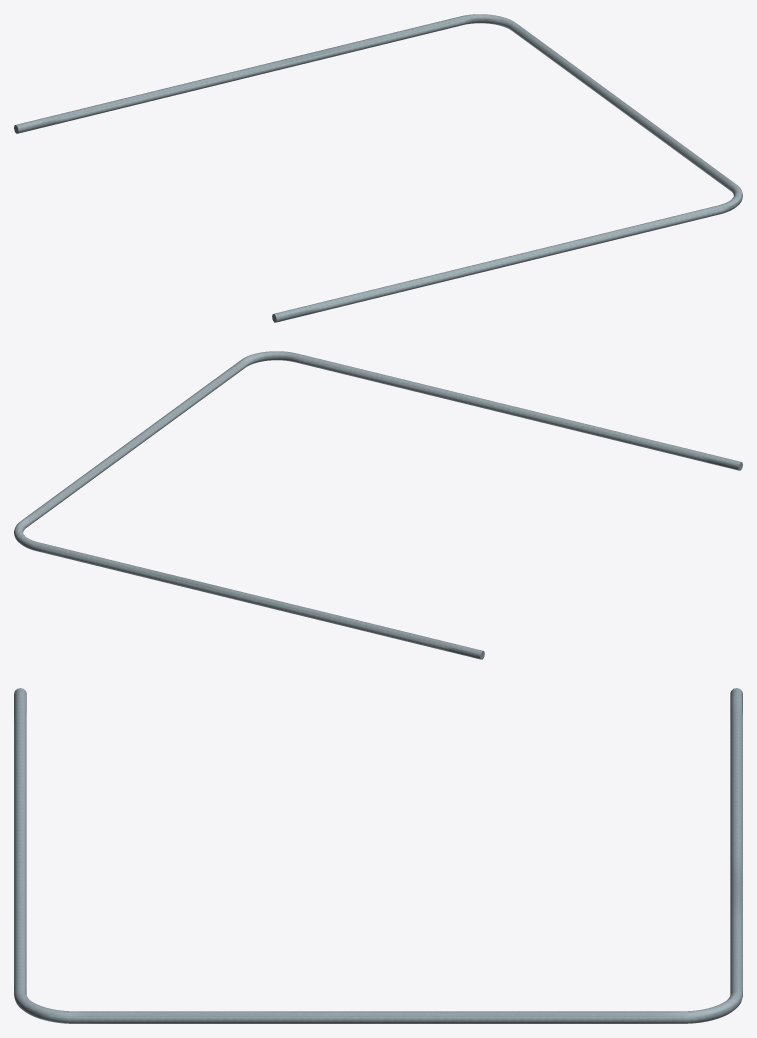
File: 24-rolled-tin-rim-143.3-2.fbx
The picture shows the model from 3 angles, top to bottom: view 1: azimuth 30°, elevation 25°; view 2: azimuth 150°, elevation 25°; view 3: azimuth 270°, elevation 25°; orthographic projection. The views are drawn at different scales.
Parts seen in each view (by area): view 1: rolled-tin-rim-143.3-2; view 2: rolled-tin-rim-143.3-2; view 3: rolled-tin-rim-143.3-2.
Part boxes in pixels (box(x1,y1,x2,y2)): rolled-tin-rim-143.3-2: box(14, 14, 742, 322); rolled-tin-rim-143.3-2: box(14, 351, 742, 659); rolled-tin-rim-143.3-2: box(14, 688, 742, 1023).
Size of the model in its own units: 8520 by 140 by 8039.
Materials: 1 (1 with a texture image).
